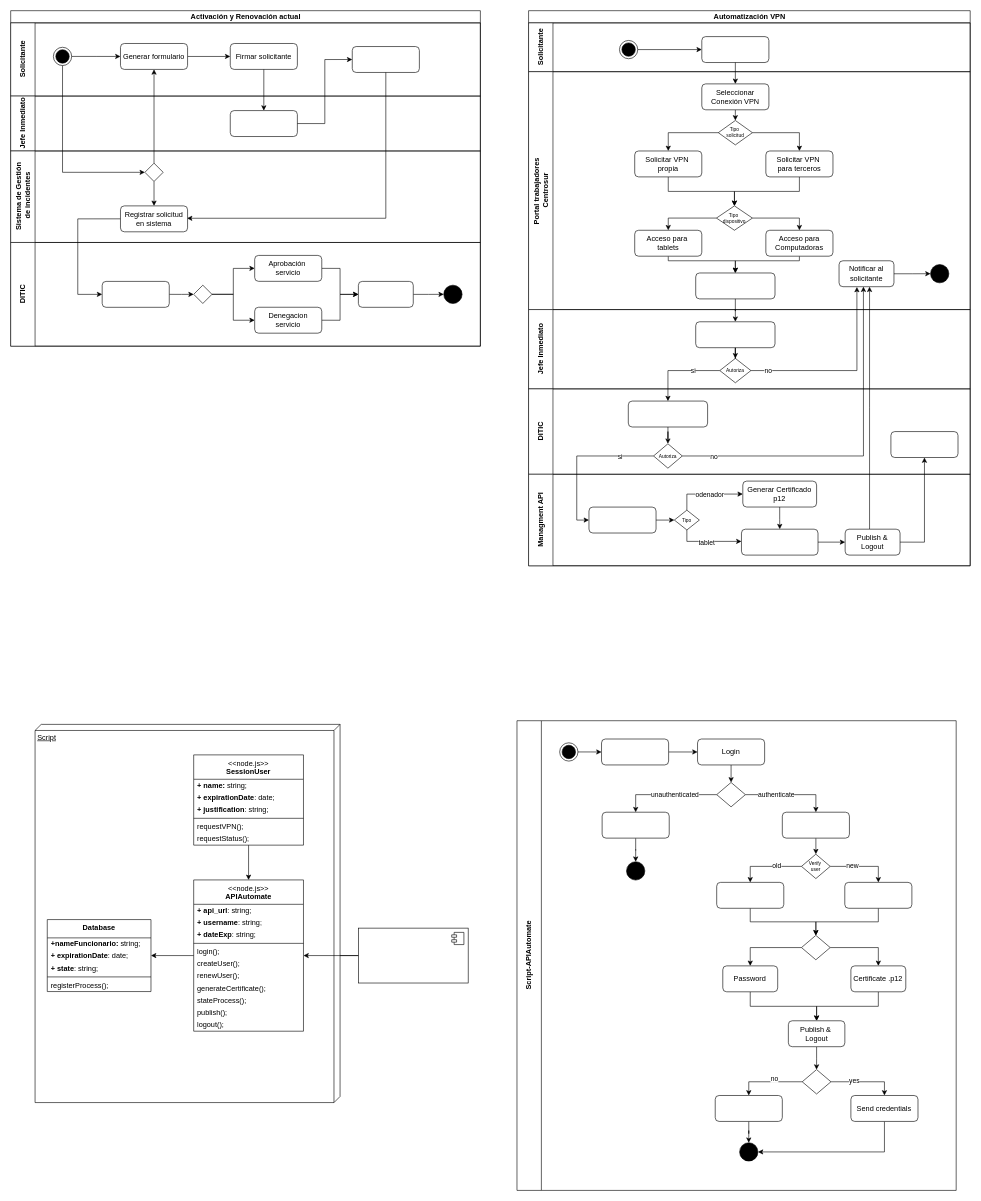
Some shapes in this 981 by 1201 pixel diagram are drawn without their labels. Here are the shapes that lost their labels. From the top down, the centre of each, then its label:
At (x=385, y=59): "Enviar solicitud".
At (x=735, y=49): "Ingresar al portal trabajadores".
At (x=263, y=123): "Firmar Jefe".
At (x=135, y=294): "Revisar y procesar solicitud".
At (x=385, y=294): "Notificar decision".
At (x=735, y=285): "Receptar información formulario".
At (x=735, y=334): "Autorización y aprobación".
At (x=668, y=413): "Autorización Intendencia Seguridad".
At (x=924, y=444): "Gestión de solicitudes".
At (x=622, y=519): "Generar usuario".
At (x=779, y=542): "Generar contraseña".
At (x=635, y=751): "Recept parameters".
At (x=635, y=825): "Server no available".
At (x=815, y=825): "Prepare Information".
At (x=750, y=895): "Replace user".
At (x=878, y=895): "Create User".
At (x=413, y=955): "«Management API» CheckPoint".
At (x=815, y=947): "certify".
At (x=816, y=1081): "success".
At (x=748, y=1108): "API no Available".
